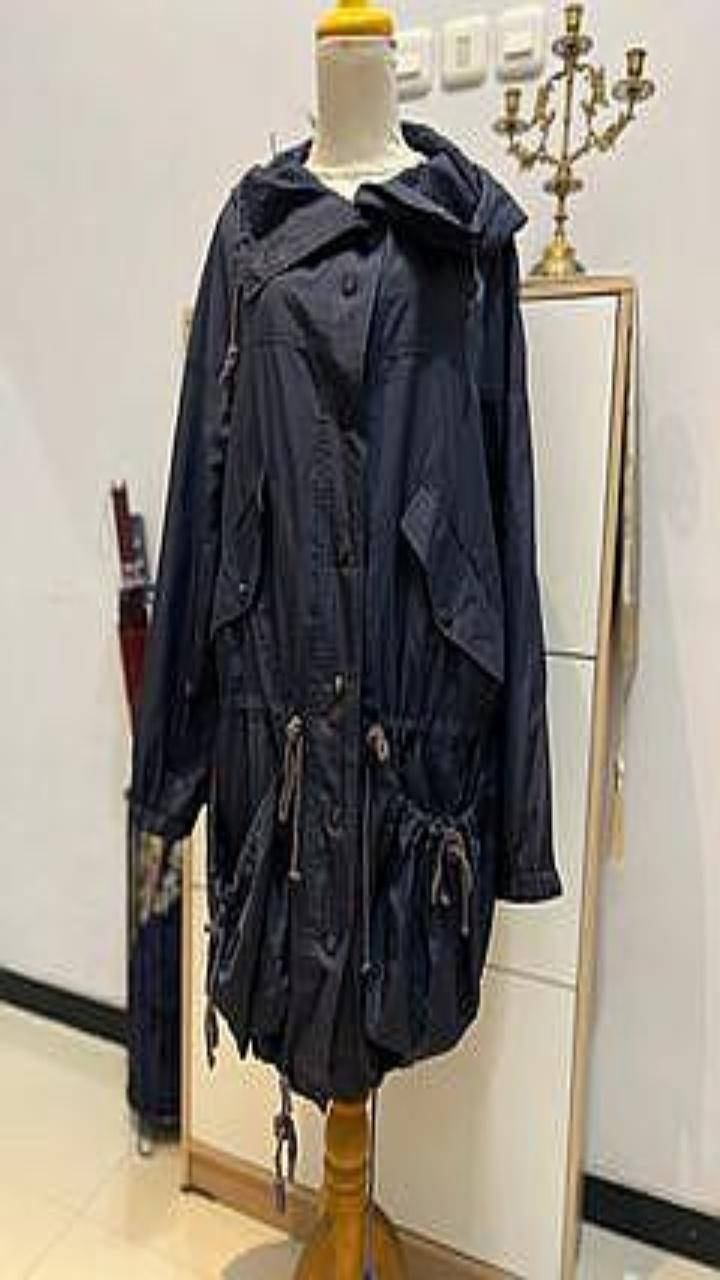Coat: (127, 122, 561, 1104)
